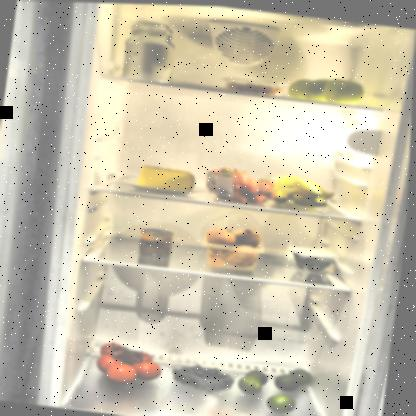apple: (288, 68, 369, 106)
banana: (273, 172, 346, 209)
blueberries: (175, 358, 240, 397)
cheese: (135, 162, 201, 195)
corn: (138, 224, 180, 259)
lime: (277, 363, 318, 392), (239, 366, 274, 395), (269, 391, 303, 413)
onion: (202, 220, 265, 266)
shrimp: (222, 75, 288, 96)
strawberries: (206, 162, 286, 206)
tomato: (96, 338, 170, 389)
